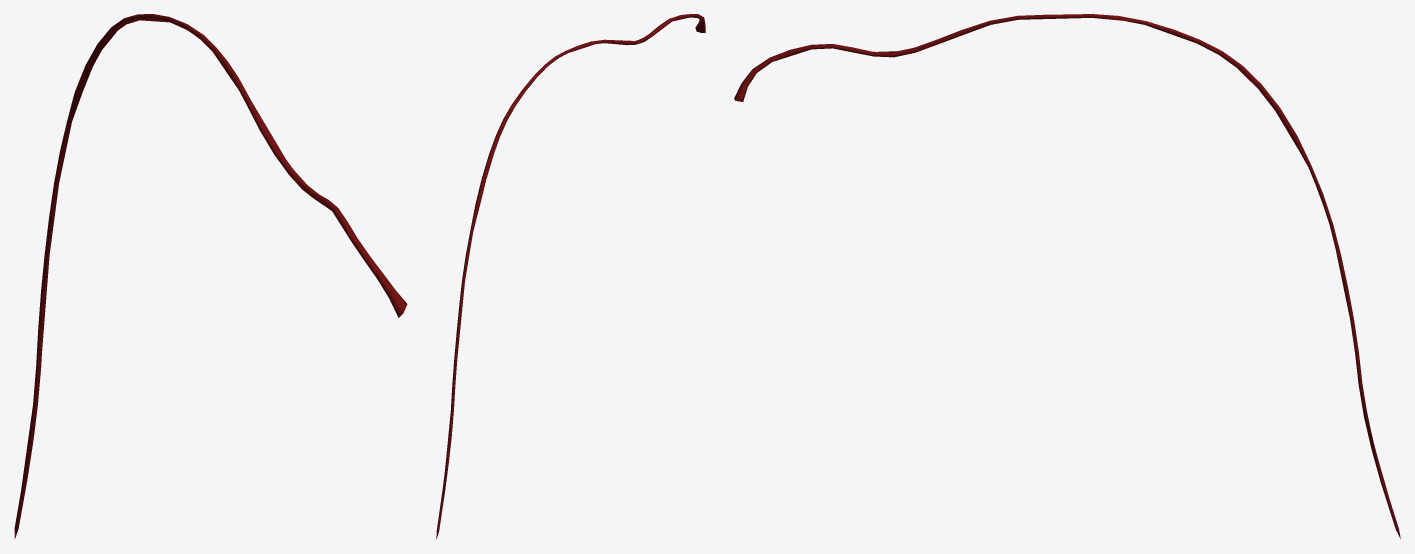
The model's file is arteria caudalis mediana.fbx.
The picture shows the model from 3 angles, left to right: view 1: azimuth 30°, elevation 25°; view 2: azimuth 150°, elevation 25°; view 3: azimuth 270°, elevation 25°; orthographic projection. The views are drawn at different scales.
Visible parts, largest first — view 1: arteria caudalis mediana, arteria caudalis mediana low; view 2: arteria caudalis mediana, arteria caudalis mediana low; view 3: arteria caudalis mediana, arteria caudalis mediana low.
Part boxes in pixels (left/top/right/bottom): arteria caudalis mediana: left=14, top=14, right=407, bottom=539; arteria caudalis mediana low: left=21, top=16, right=405, bottom=487; arteria caudalis mediana: left=436, top=14, right=705, bottom=539; arteria caudalis mediana low: left=439, top=15, right=705, bottom=526; arteria caudalis mediana: left=734, top=14, right=1400, bottom=538; arteria caudalis mediana low: left=735, top=17, right=1388, bottom=495.
Bounding box in the file's own units: 2.24 × 33.56 × 38.69.
